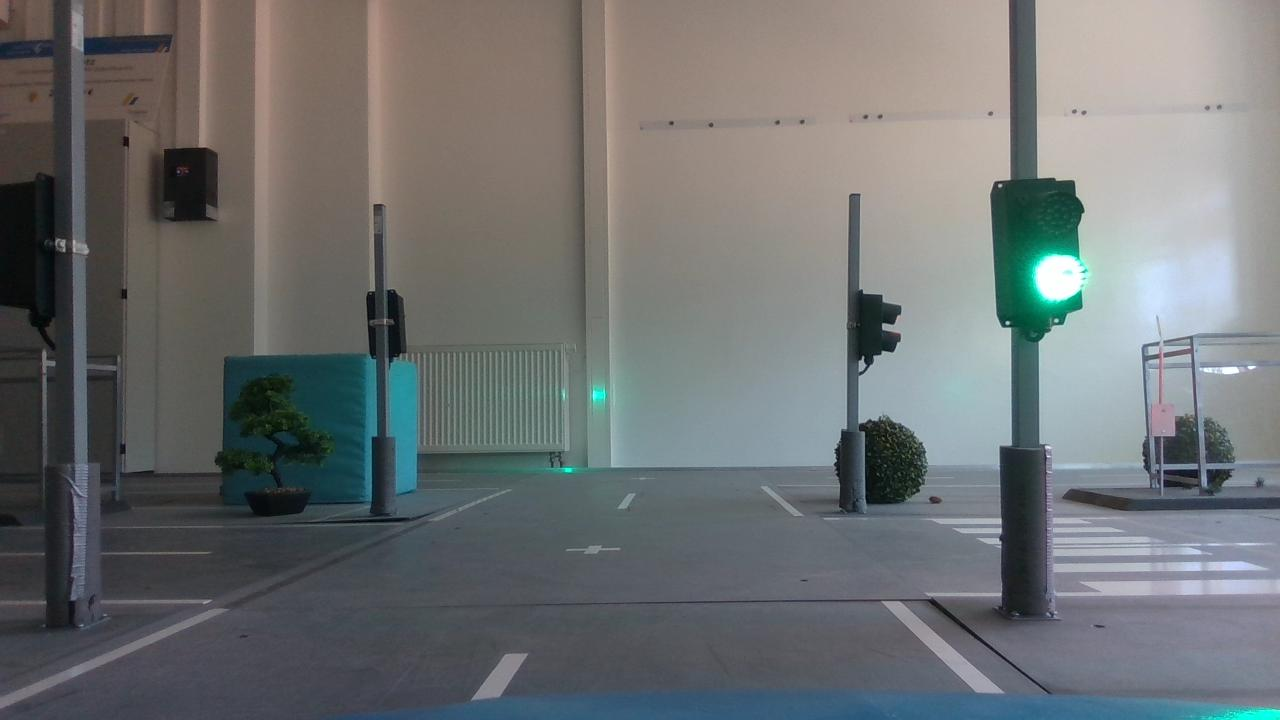traffic_light_green: (972, 162, 1109, 343)
